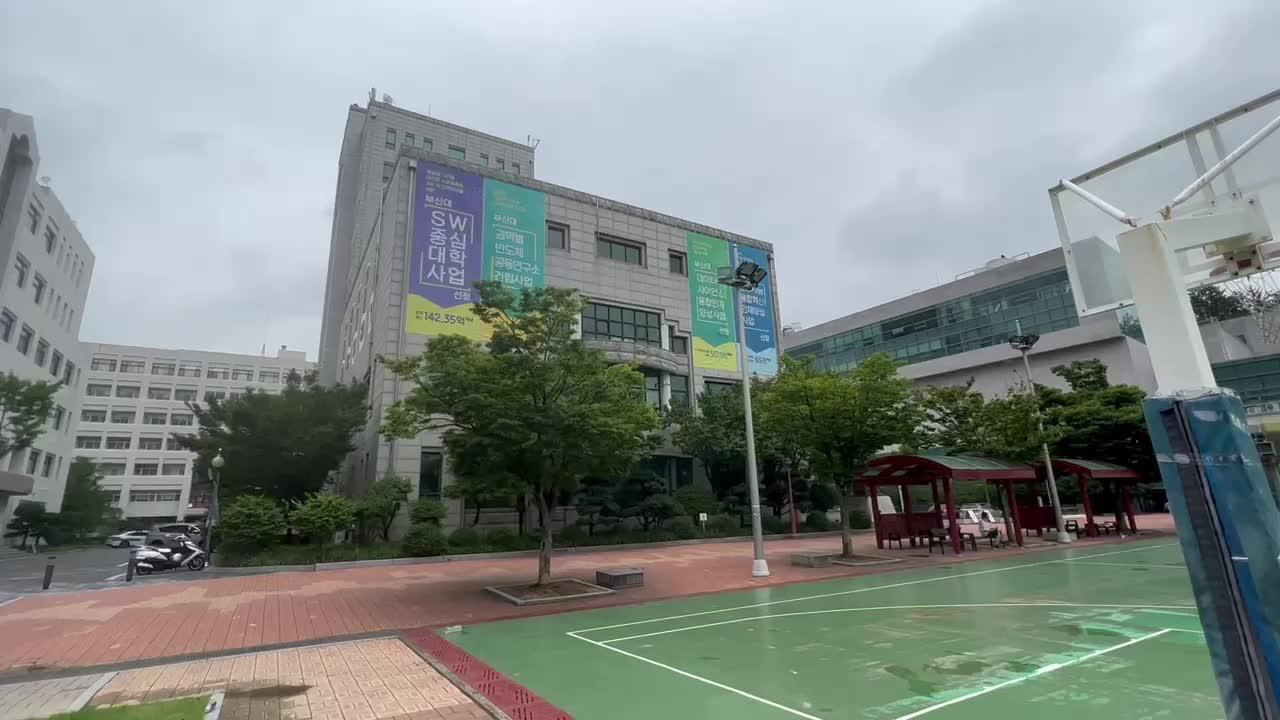building: (333, 99, 561, 297)
